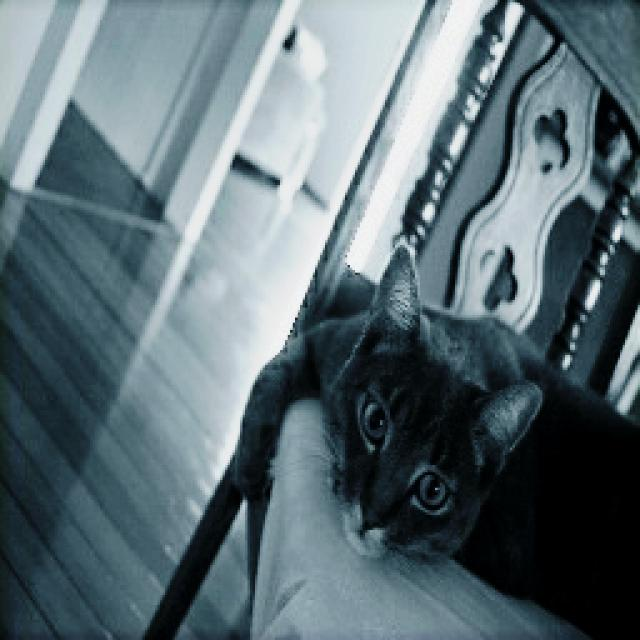cat: (210, 198, 640, 635)
